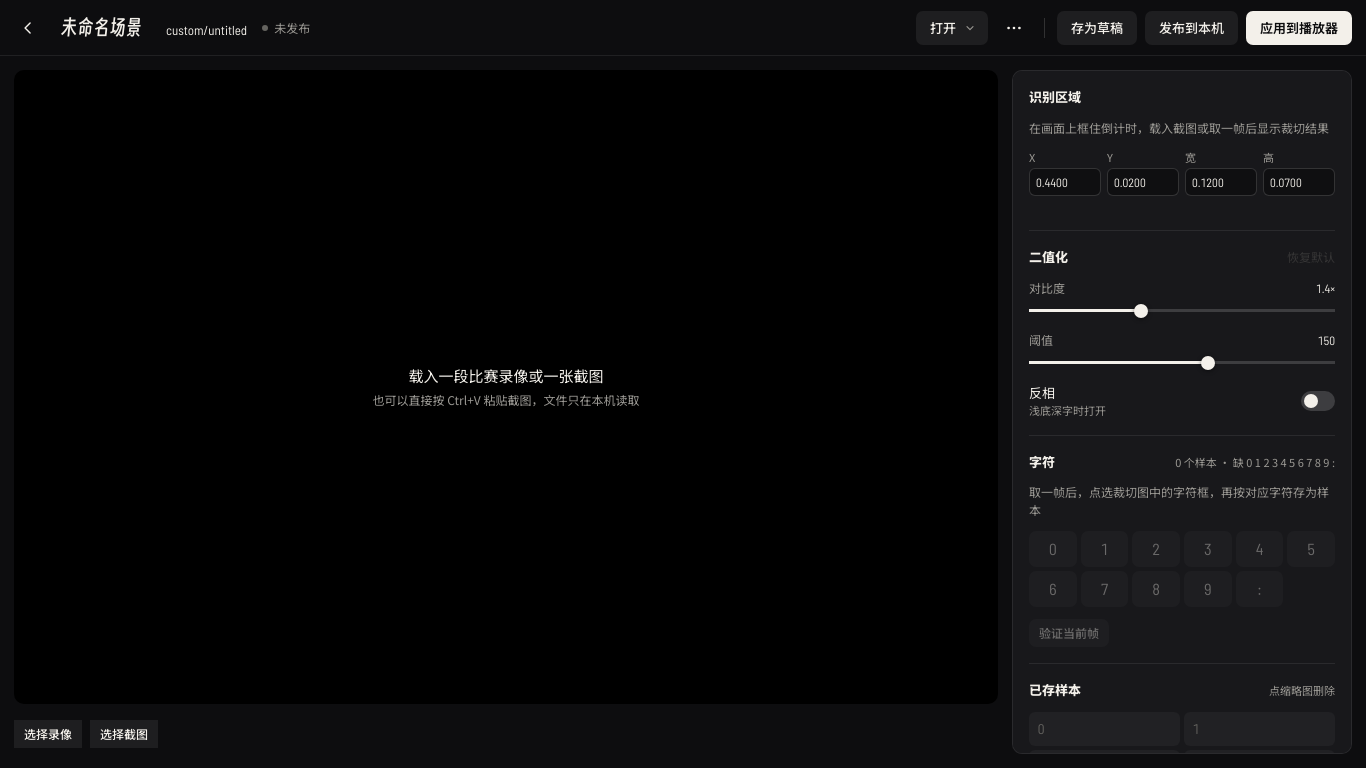
Test: publish conflicts › offers reload and an overwrite that only beats the reported version
Click the button "发布到本机" at (1192, 28), box [1145,10,1238,44]
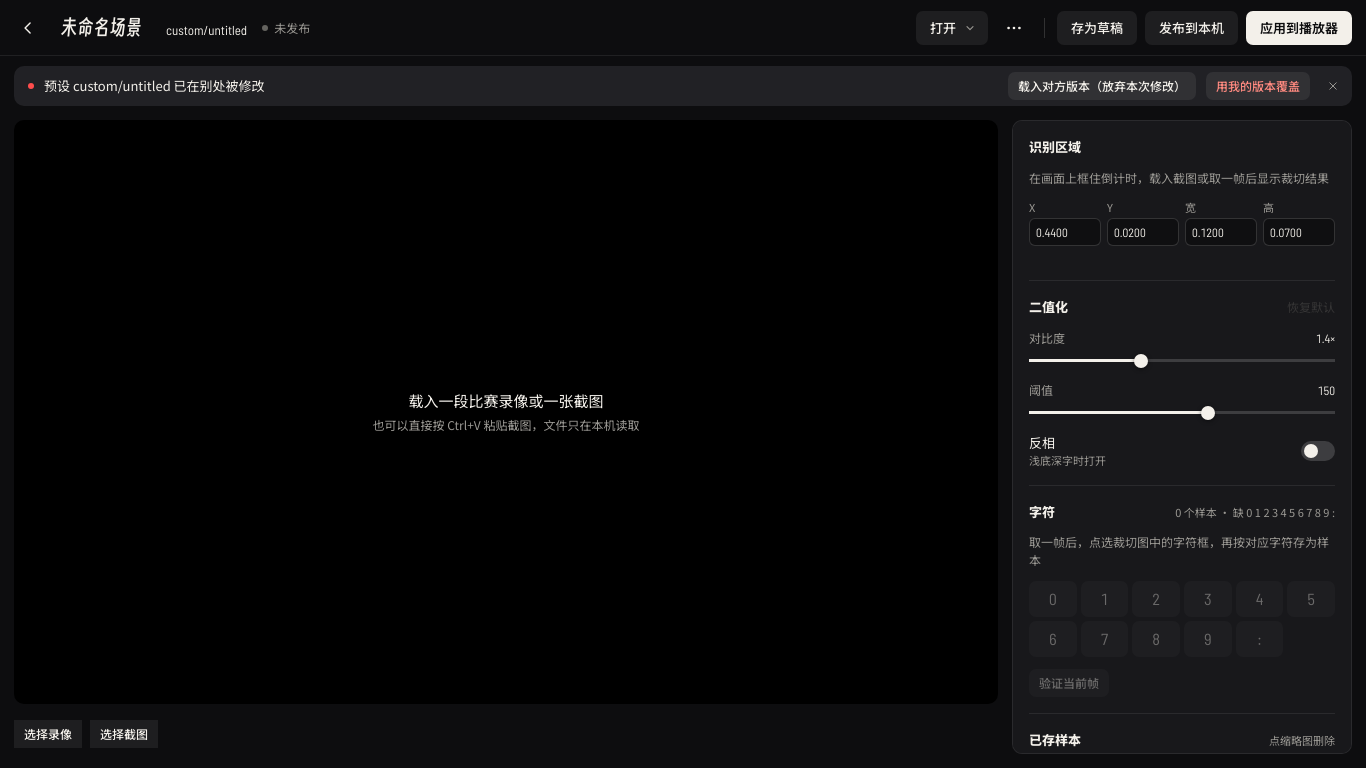
Now the message shows "已在别处被修改", box [44,76,265,95]
Now the button "载入对方版本（放弃本次修改）" is shown, box [1008,72,1196,100]
Click the button "用我的版本覆盖" at (1258, 86), box [1206,72,1310,100]
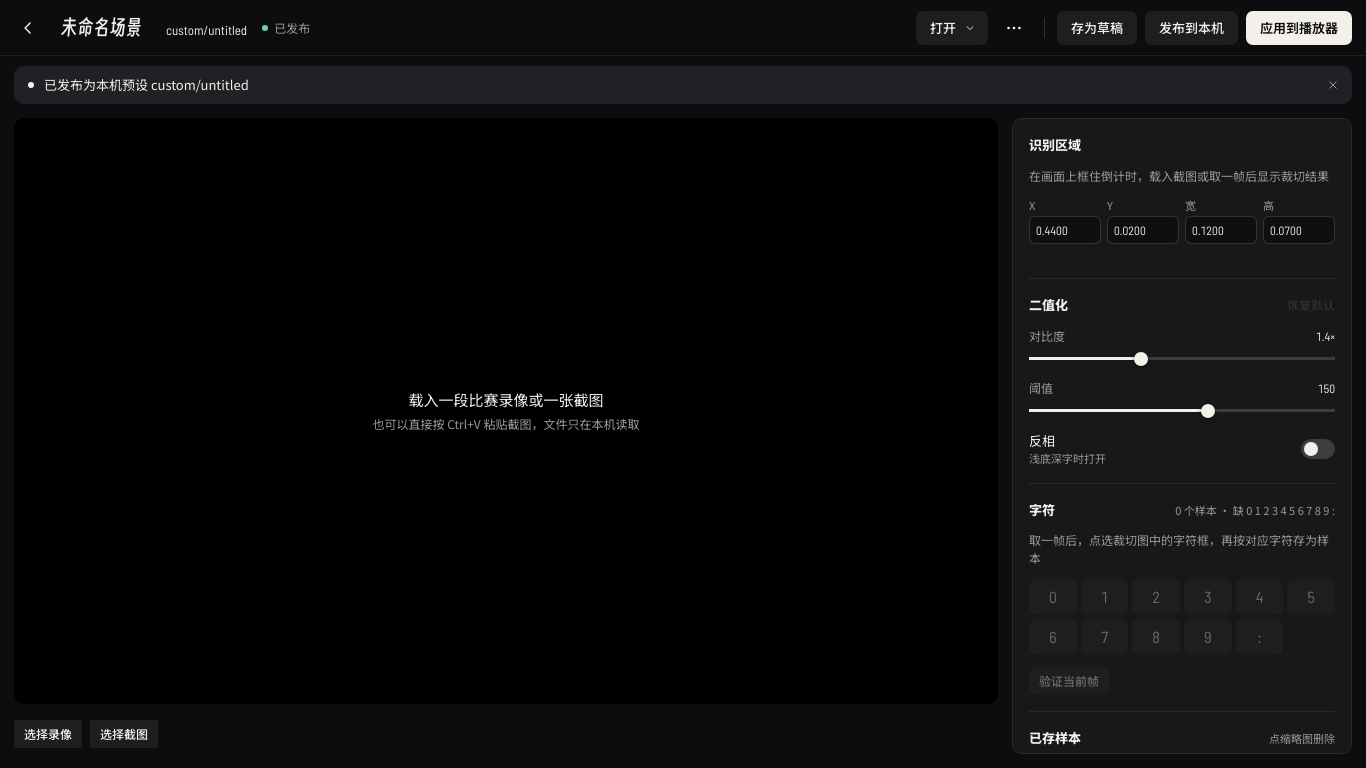
Now the message shows "已发布为本机预设", box [44,75,249,94]
